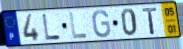0: (120, 8, 138, 38)
4: (22, 13, 41, 43)
G: (92, 10, 112, 39)
L: (68, 11, 89, 40), (41, 13, 62, 41)
T: (141, 6, 159, 36)
